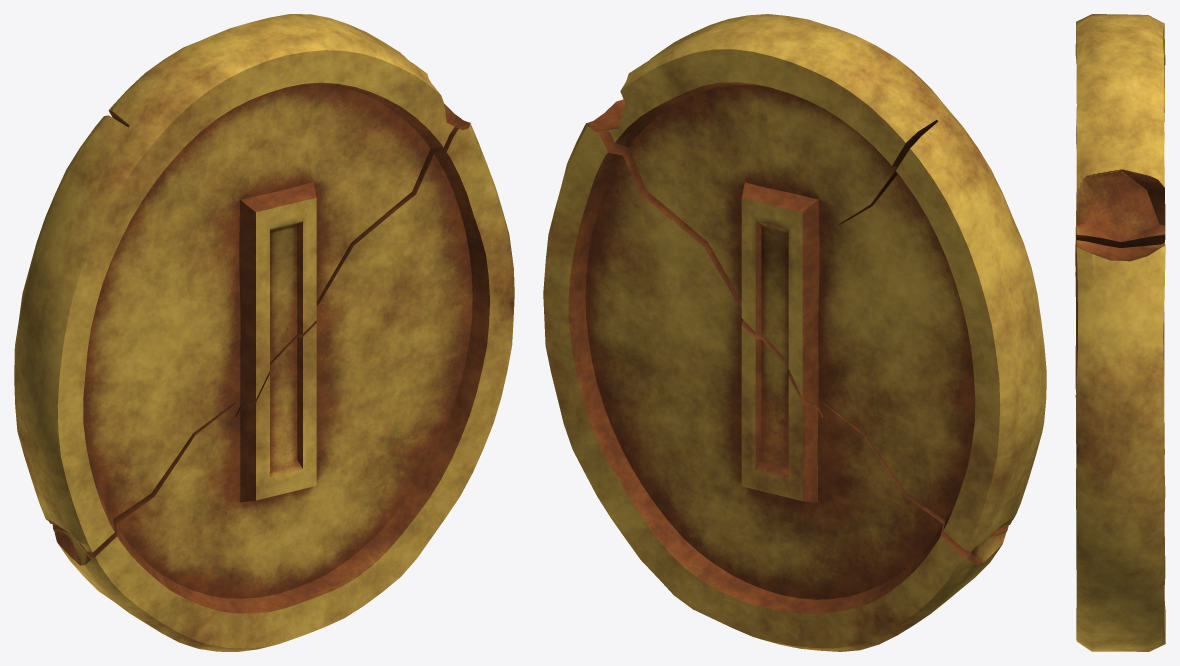
Rendered from MarioCoin_RustedCracked.fbx.
3 renders of one model, left to right at view 1: azimuth 30°, elevation 25°; view 2: azimuth 150°, elevation 25°; view 3: azimuth 270°, elevation 25°, orthographic.
Visible parts, largest first — view 1: MarioCoin_RustedCracked; view 2: MarioCoin_RustedCracked; view 3: MarioCoin_RustedCracked.
Boxes of the visible parts, bbox=[...] form: MarioCoin_RustedCracked: bbox=[14, 14, 514, 651]; MarioCoin_RustedCracked: bbox=[543, 14, 1046, 651]; MarioCoin_RustedCracked: bbox=[1075, 14, 1165, 651].
Bounding box in the file's own units: 0.6843 × 0.8379 × 0.1156.
